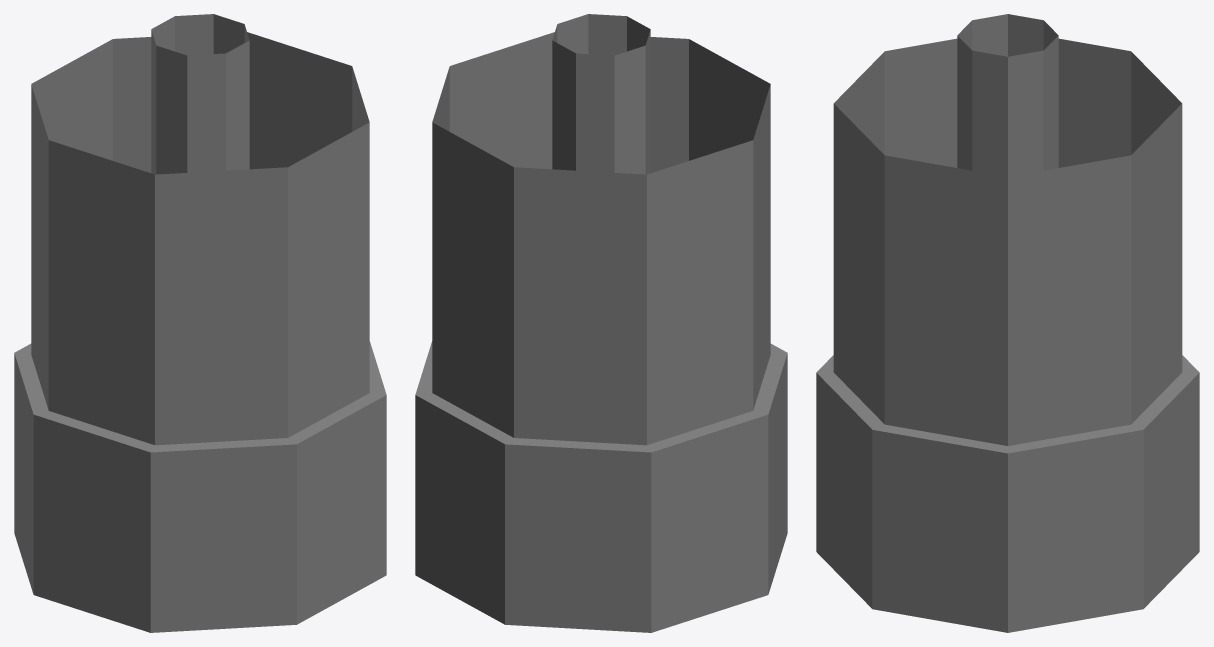
File: SniperrifleDefaultBarrel.glb
3 renders of one model, left to right at view 1: azimuth 30°, elevation 25°; view 2: azimuth 150°, elevation 25°; view 3: azimuth 270°, elevation 25°, orthographic.
Parts seen in each view (by area): view 1: SniperrifleDefaultBarrel; view 2: SniperrifleDefaultBarrel; view 3: SniperrifleDefaultBarrel.
Boxes of the visible parts, left/top/right/bottom form: SniperrifleDefaultBarrel: left=14, top=14, right=386, bottom=632; SniperrifleDefaultBarrel: left=415, top=14, right=787, bottom=632; SniperrifleDefaultBarrel: left=816, top=14, right=1199, bottom=632.
Bounding box in the file's own units: 0.0271 × 0.0403 × 0.0271.
1 material, 1 textured.
